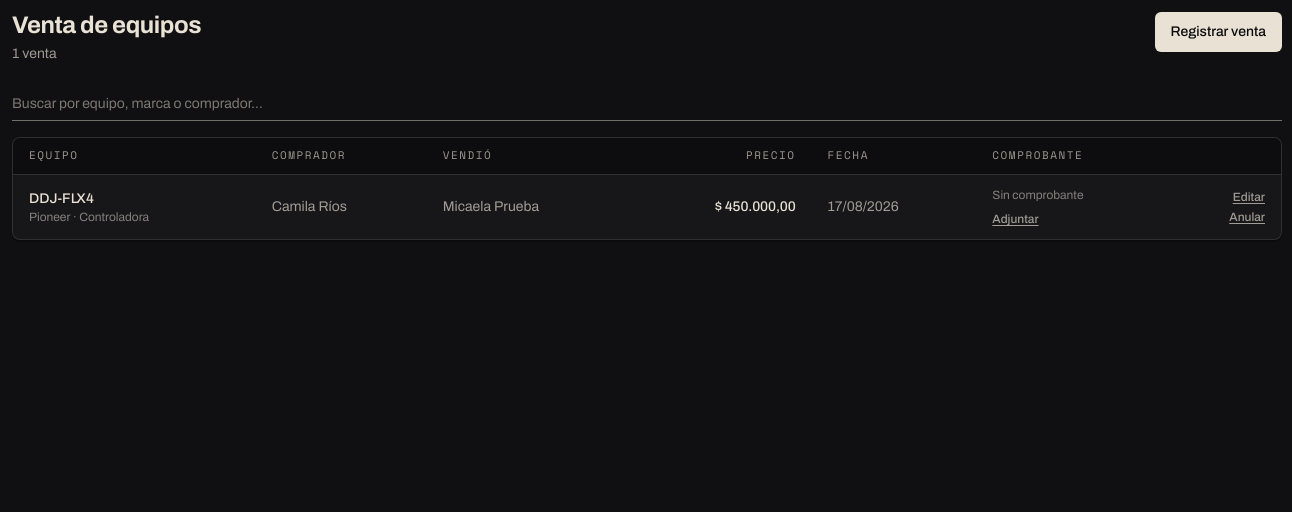
Test: anular una venta › pide el motivo antes de anular y avisa que no se borra
This screenshot has width=1292, height=512.
Click the button "Anular".
click(1247, 217)  # box top-left (1229, 209), bottom-right (1265, 225)
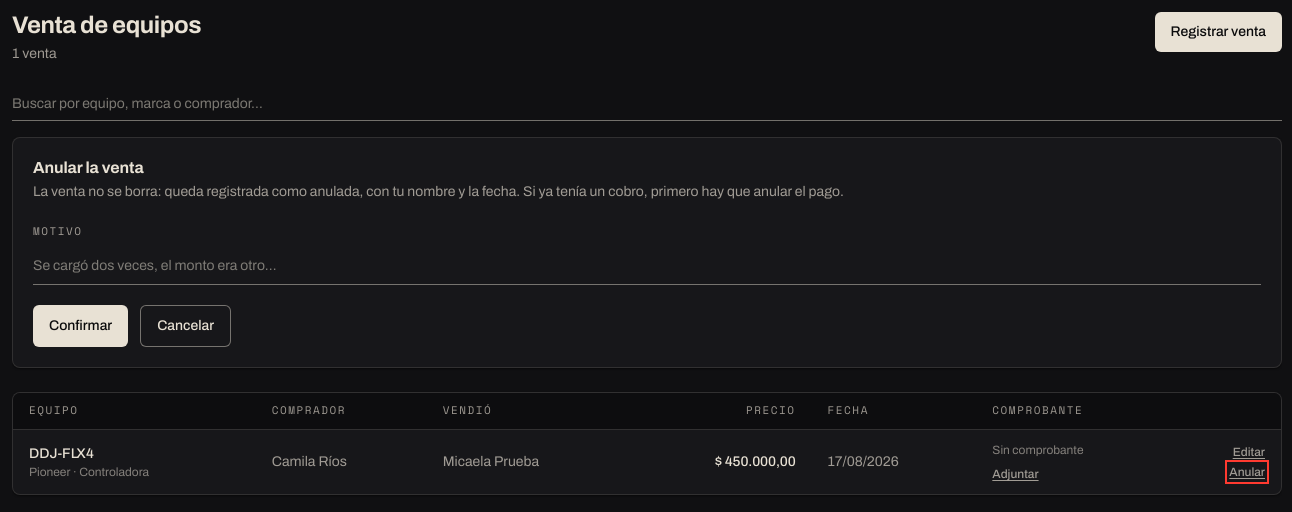
Expected: the heading "Anular la venta" is shown, top-left (33, 159), bottom-right (144, 176)
Expected: the text "no se borra" is shown, top-left (33, 184), bottom-right (844, 199)
